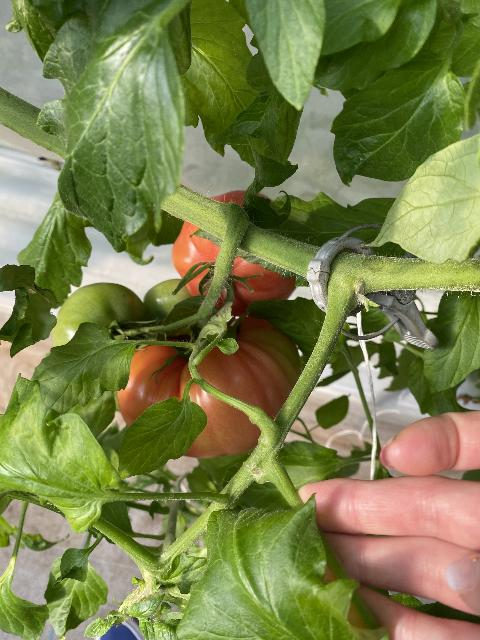b_fully_ripened: (171, 190, 302, 319)
b_green: (53, 283, 163, 346), (142, 279, 203, 339)
b_half_ripened: (114, 316, 301, 457)
